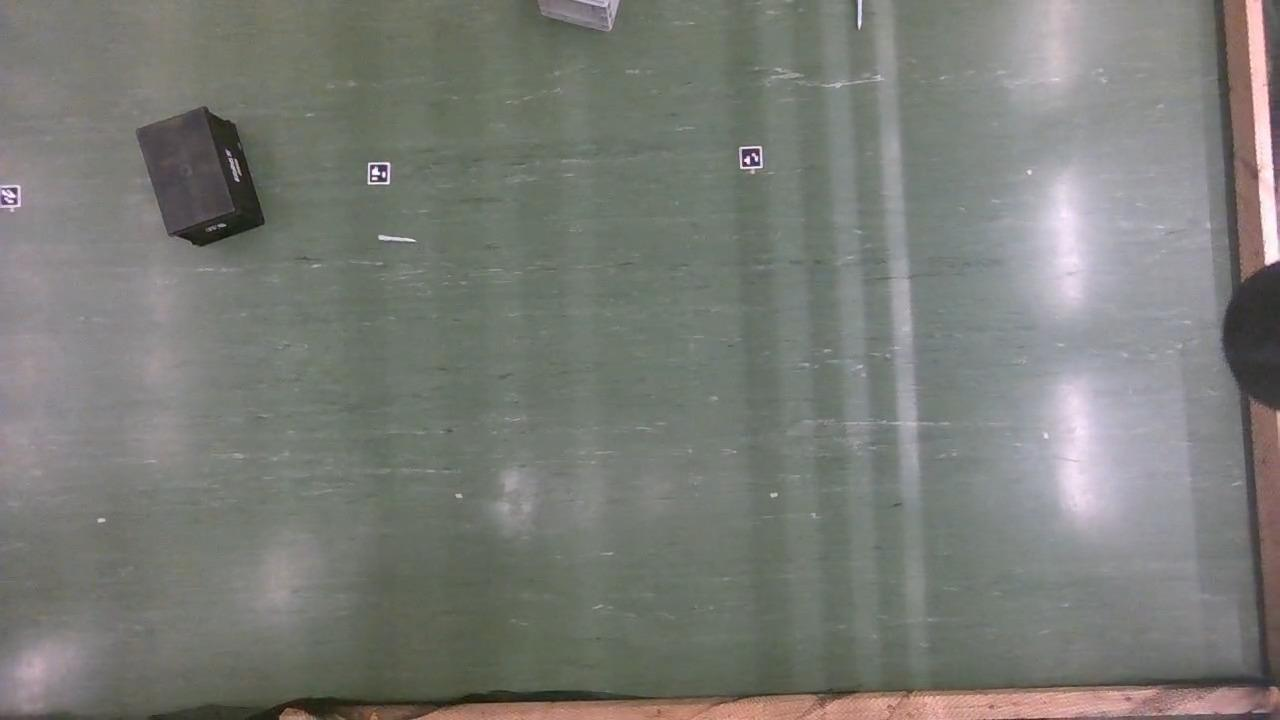probes: (380, 235, 416, 244), (856, 0, 866, 29)
rako: (137, 109, 264, 249)
